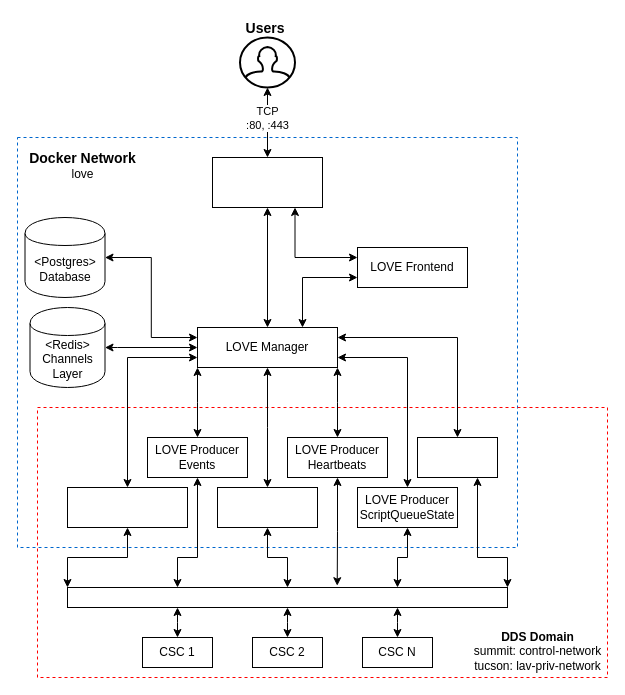
Image size: 625x695. Some labels were removed from this diagram. The centre of each missing label's shape, as x and y in pixels:
<Nginx> Load Balancer: [267,182]
LOVE Commander: [127,507]
LOVE CSC: [457,457]
LOVE Producer Telemetries: [267,507]
SAL / DDS: [287,597]
